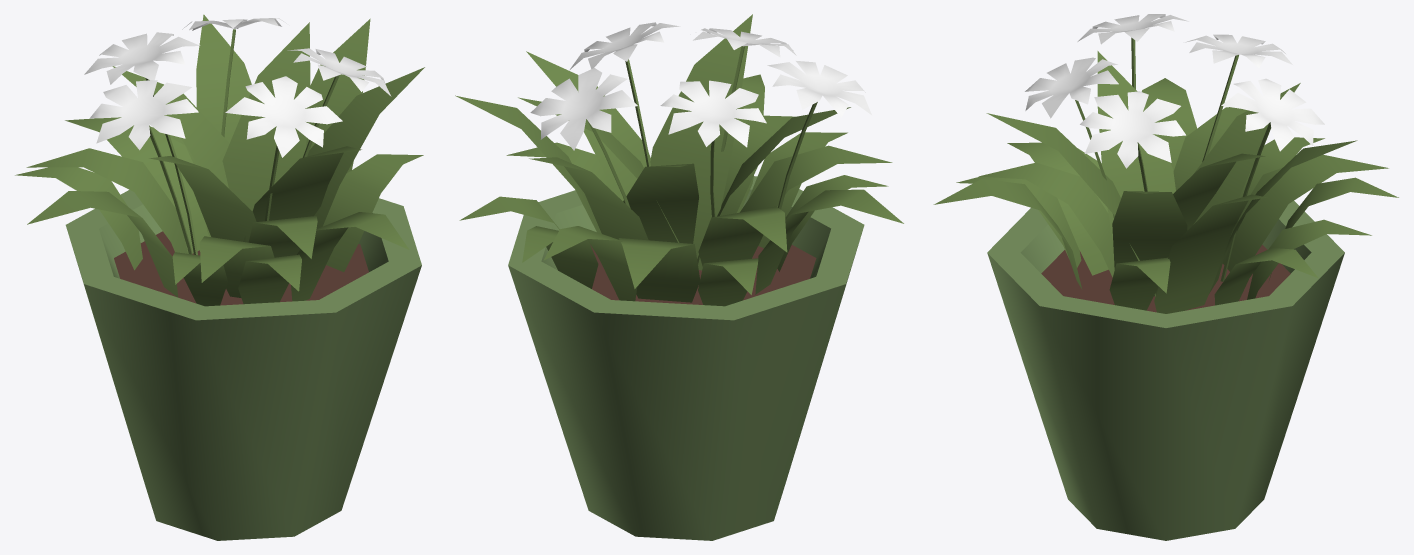
File: Flowers_03.fbx
The picture shows the model from 3 angles, left to right: view 1: azimuth 30°, elevation 25°; view 2: azimuth 150°, elevation 25°; view 3: azimuth 270°, elevation 25°; orthographic projection. The views are drawn at different scales.
Visible parts, largest first — view 1: Flowers_03; view 2: Flowers_03; view 3: Flowers_03.
Part boxes in pixels (x1=…): Flowers_03: x1=15, y1=14, x2=424, y2=540; Flowers_03: x1=455, y1=14, x2=903, y2=540; Flowers_03: x1=933, y1=14, x2=1398, y2=540.
Size of the model in its own units: 0.3781 by 0.4034 by 0.3953.
